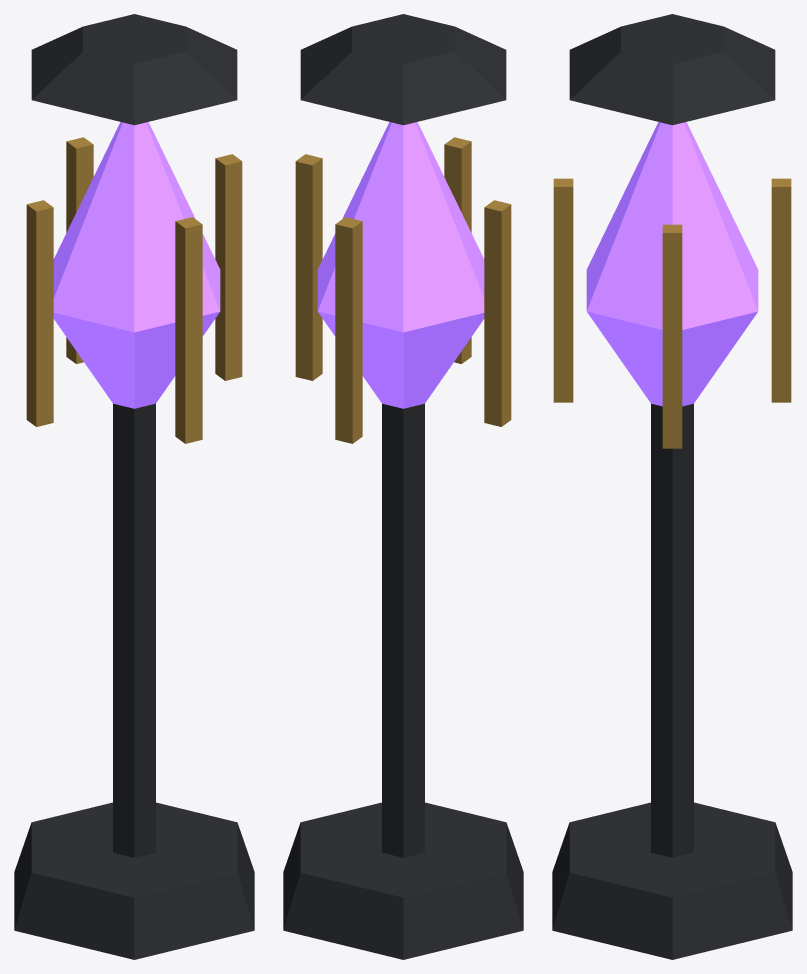
Rendered from stained_crystal_lamp.glb.
The picture shows the model from 3 angles, left to right: view 1: azimuth 30°, elevation 25°; view 2: azimuth 150°, elevation 25°; view 3: azimuth 270°, elevation 25°; orthographic projection.
Visible parts, largest first — view 1: stained_crystal_lamp; view 2: stained_crystal_lamp; view 3: stained_crystal_lamp.
Boxes of the visible parts, box(x1,y1,x2,y2) form: stained_crystal_lamp: box(14, 14, 254, 959); stained_crystal_lamp: box(283, 14, 523, 959); stained_crystal_lamp: box(552, 14, 792, 959).
Size of the model in its own units: 0.28 by 0.96 by 0.2425.
